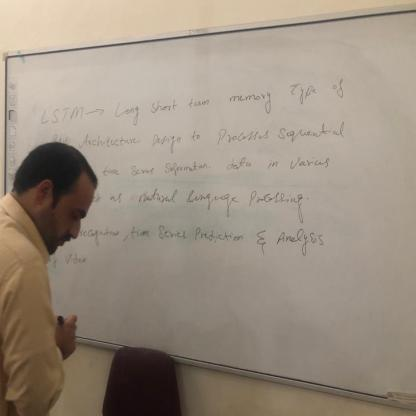Handwritten text: (30, 60, 359, 133), (77, 110, 356, 154), (105, 171, 323, 219), (117, 215, 330, 255), (98, 149, 341, 184)
Lecturer: (4, 136, 108, 416)
Whiteboard: (0, 4, 416, 406)
